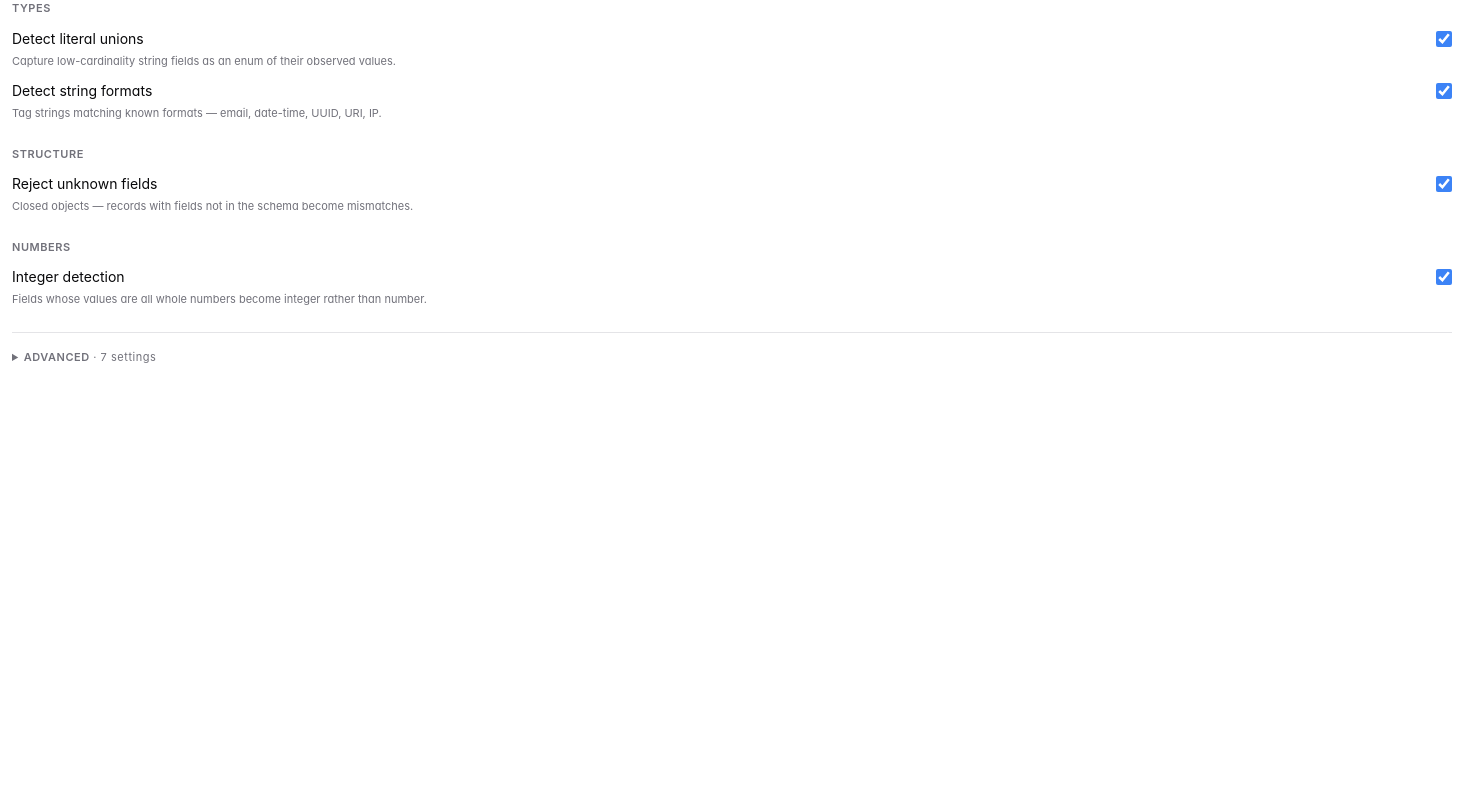
Test case: InferenceOptionsForm › Z-F2: expanding Advanced reveals the rarer knobs with their defaults
Check: the text "default: 20" is not shown
Click the heading "Advanced · 7 settings": (84, 357) [12,348,156,365]
(page scrolled)
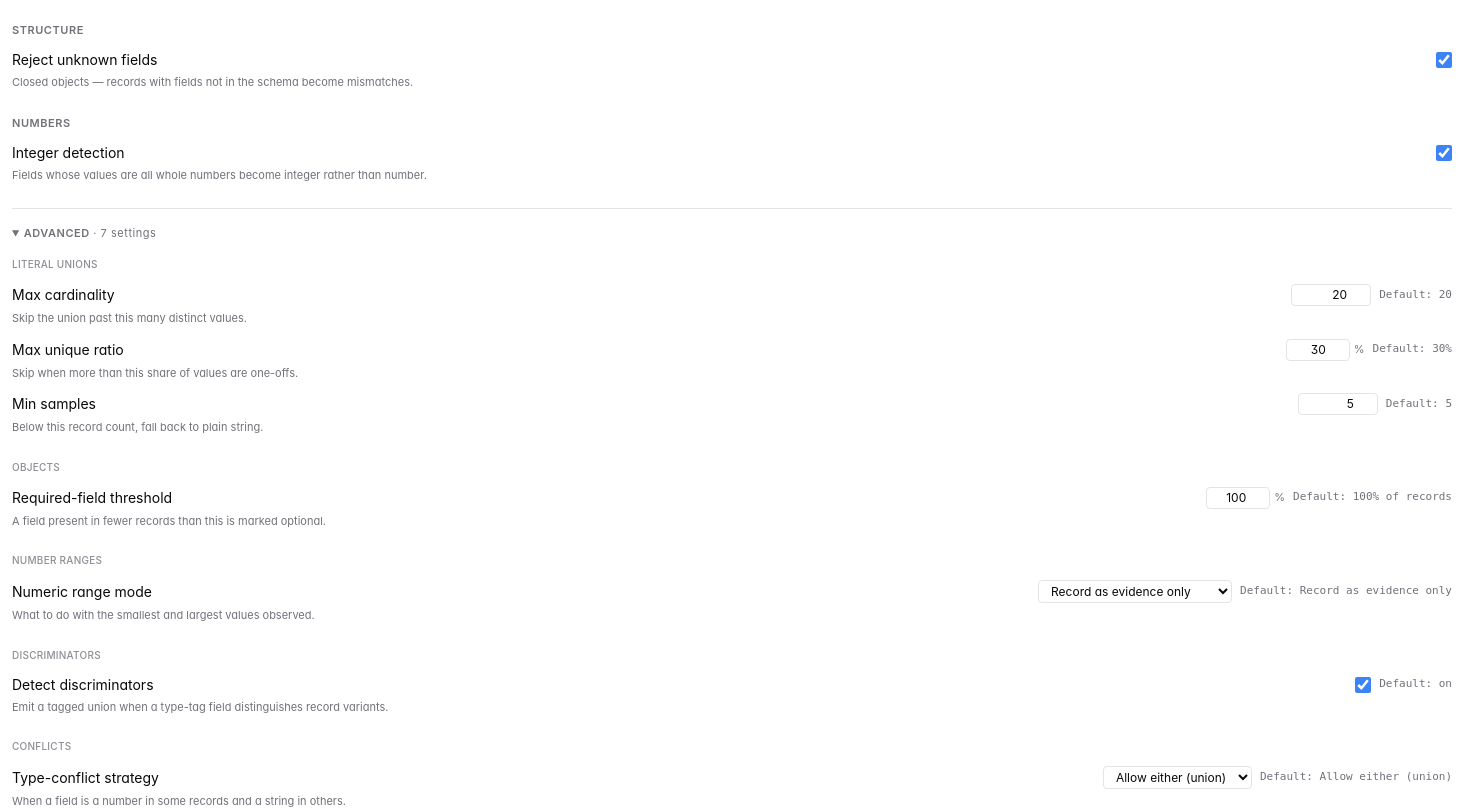
Check: the text "Default: 20" is shown, box [1379,287,1452,303]
Check: the text "Default: 30%" is shown, box [1372,341,1452,358]
Check: the text "Default: 100% of records" is shown, box [1293,489,1452,506]
